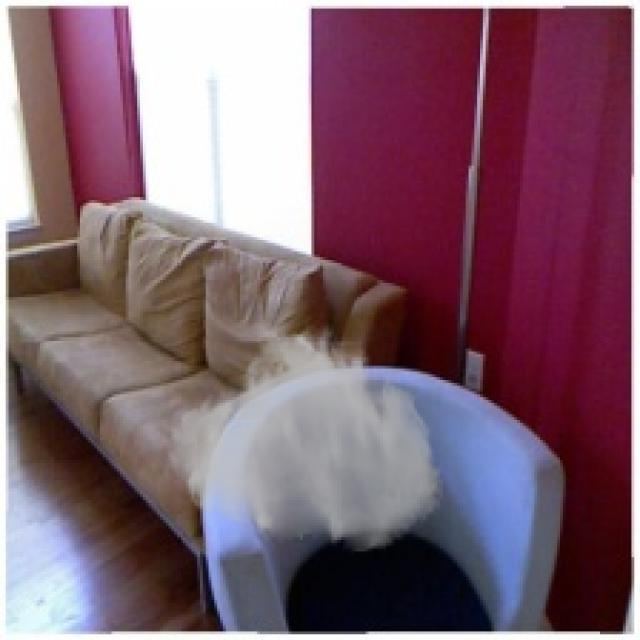Smoke: (166, 317, 446, 554)
